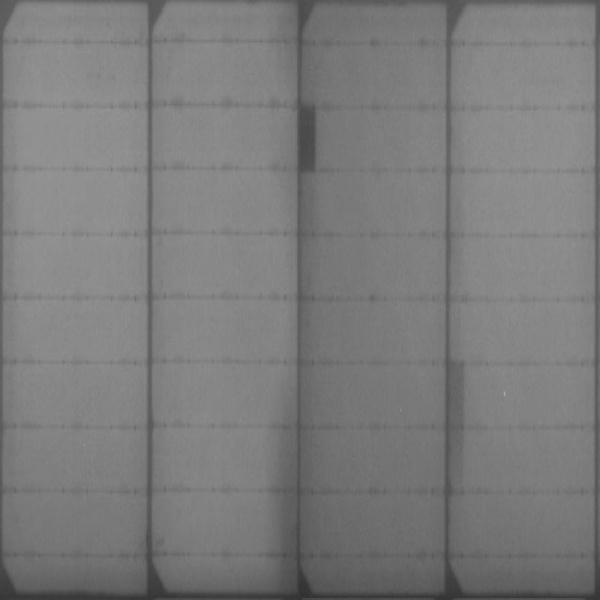black_border: (443, 358, 468, 504), (297, 103, 318, 175)
